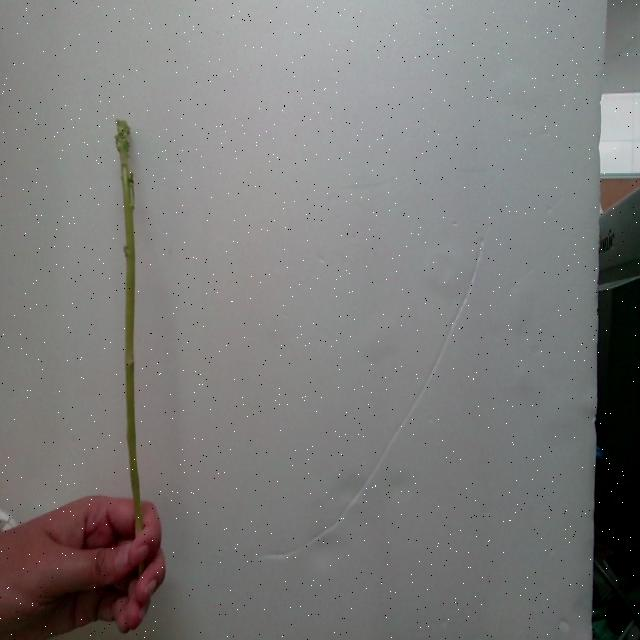aspargus: (112, 120, 143, 541)
